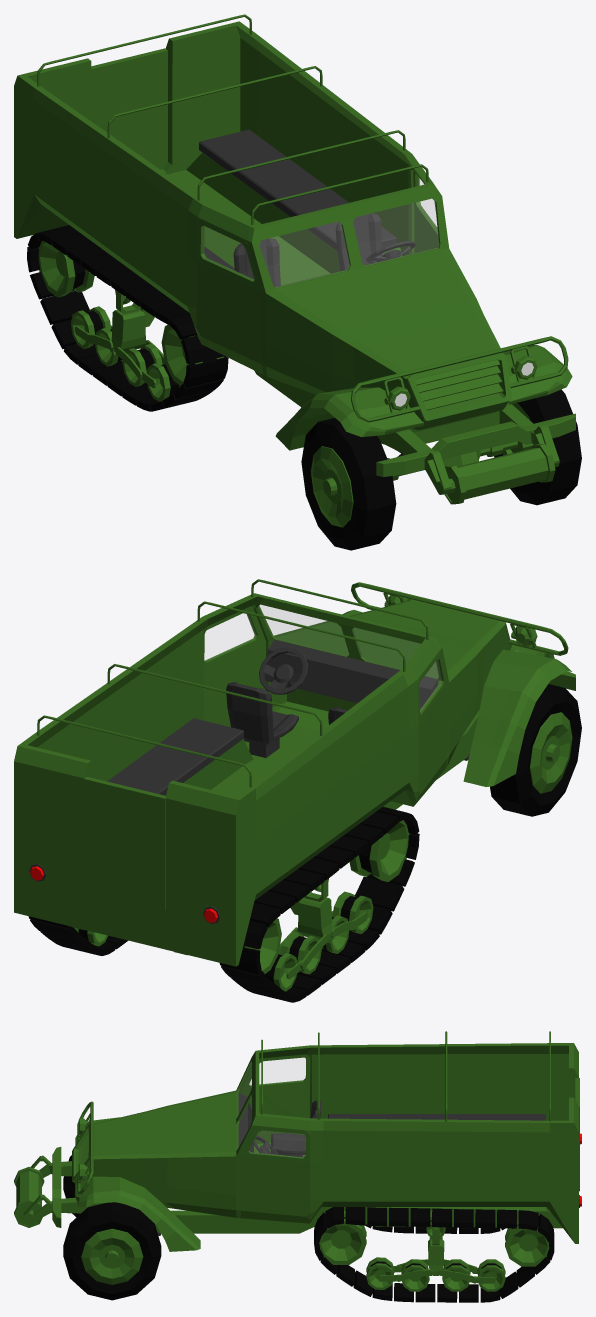
The picture shows the model from 3 angles, top to bottom: view 1: azimuth 30°, elevation 25°; view 2: azimuth 150°, elevation 25°; view 3: azimuth 270°, elevation 25°; orthographic projection. The views are drawn at different scales.
Parts seen in each view (by area): view 1: Plane, Cube.001, Cube, Cylinder.001, Plane.003, Plane.002, Plane.001, Cylinder, Plane.004, Plane.005; view 2: Plane, Cube.001, Plane.001, Plane.004, Cylinder.001, Plane.005, Plane.003, Plane.002, Cube; view 3: Plane, Cube.001, Cylinder, Cube, Plane.005, Plane.002, Plane.004, Plane.003.
Part boxes in pixels (<box>): Plane: <box>14,14,572,450</box>; Cube.001: <box>27,225,228,411</box>; Cube: <box>140,308,575,504</box>; Cylinder.001: <box>301,418,396,550</box>; Plane.003: <box>260,199,438,286</box>; Plane.002: <box>196,219,261,362</box>; Plane.001: <box>91,48,167,169</box>; Cylinder: <box>494,389,581,505</box>; Plane.004: <box>233,213,434,287</box>; Plane.005: <box>413,169,438,252</box>; Plane: <box>14,579,571,966</box>; Cube.001: <box>28,807,419,1002</box>; Plane.001: <box>84,776,165,914</box>; Plane.004: <box>226,639,437,757</box>; Cylinder.001: <box>490,684,581,816</box>; Plane.005: <box>203,606,265,727</box>; Plane.003: <box>259,605,437,677</box>; Plane.002: <box>417,652,447,794</box>; Cube: <box>72,644,575,955</box>; Plane: <box>72,1031,581,1251</box>; Cube.001: <box>314,1207,554,1302</box>; Cylinder: <box>63,1202,161,1300</box>; Cube: <box>14,1147,562,1239</box>; Plane.005: <box>240,1126,310,1216</box>; Plane.002: <box>240,1054,310,1143</box>; Plane.004: <box>238,1093,320,1157</box>; Plane.003: <box>238,1064,251,1146</box>.
Bounding box in the file's own units: 226 × 249 × 658.
